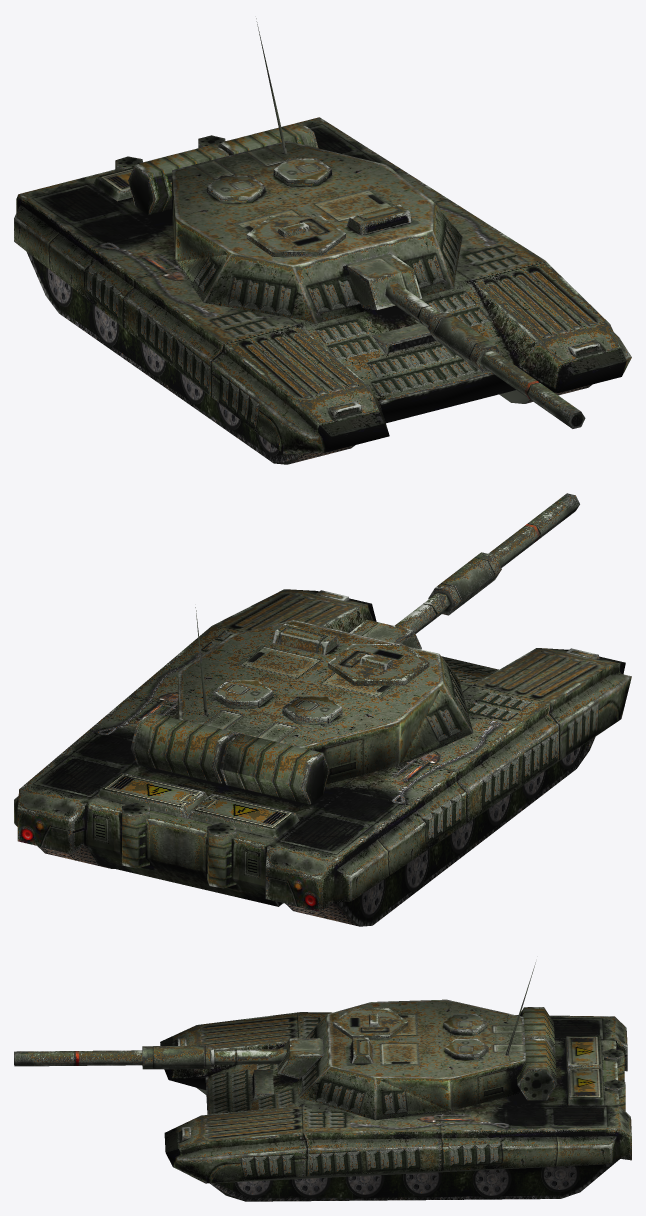
The model's file is t90tank.glb.
The picture shows the model from 3 angles, top to bottom: view 1: azimuth 30°, elevation 25°; view 2: azimuth 150°, elevation 25°; view 3: azimuth 270°, elevation 25°; orthographic projection. The views are drawn at different scales.
Visible parts, largest first — view 1: Cylinder01_03 - Default_0; view 2: Cylinder01_03 - Default_0; view 3: Cylinder01_03 - Default_0.
Part boxes in pixels (<box>): Cylinder01_03 - Default_0: <box>14,18,631,464</box>; Cylinder01_03 - Default_0: <box>14,493,631,926</box>; Cylinder01_03 - Default_0: <box>14,962,631,1201</box>.
Size of the model in its own units: 1.09 by 0.7894 by 2.22.
1 material, 1 textured.
